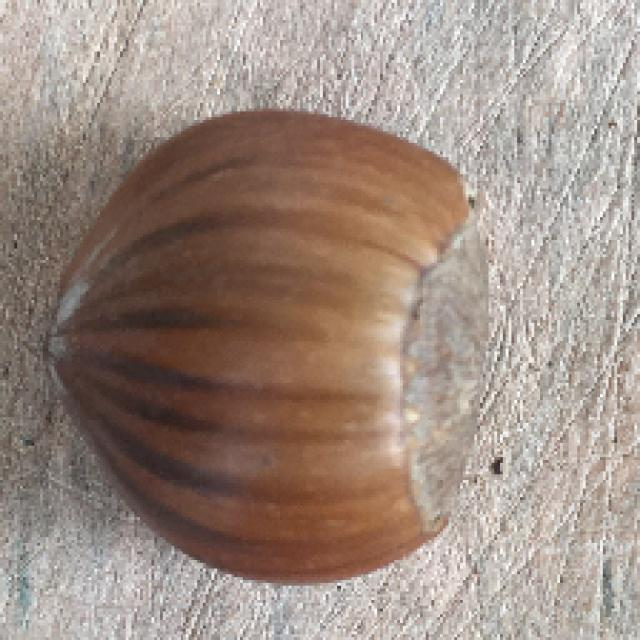damagedHazelnut: (53, 103, 496, 582)
